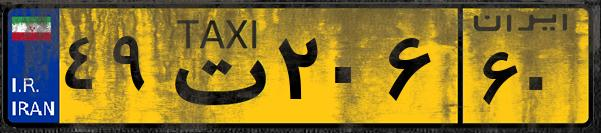0: (330, 28, 385, 110), (525, 38, 570, 115)
2: (270, 28, 330, 110)
4: (57, 26, 110, 100)
6: (385, 28, 445, 110), (475, 38, 525, 113)
9: (110, 28, 158, 98)
ت: (158, 12, 270, 120)
